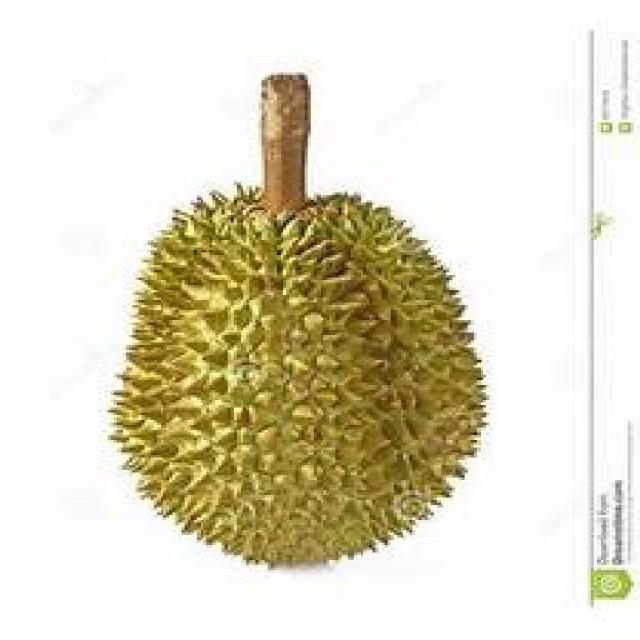Fruit: (148, 78, 535, 488)
